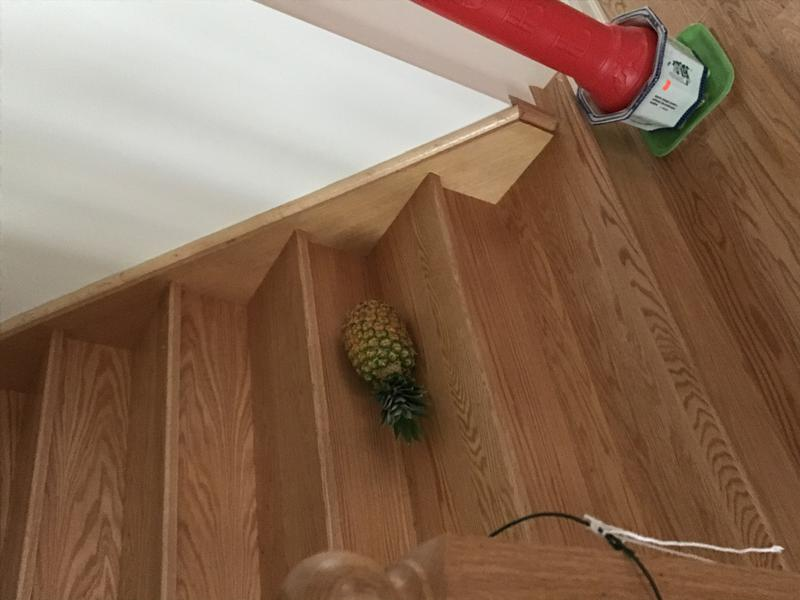pineapple: (329, 293, 449, 453)
